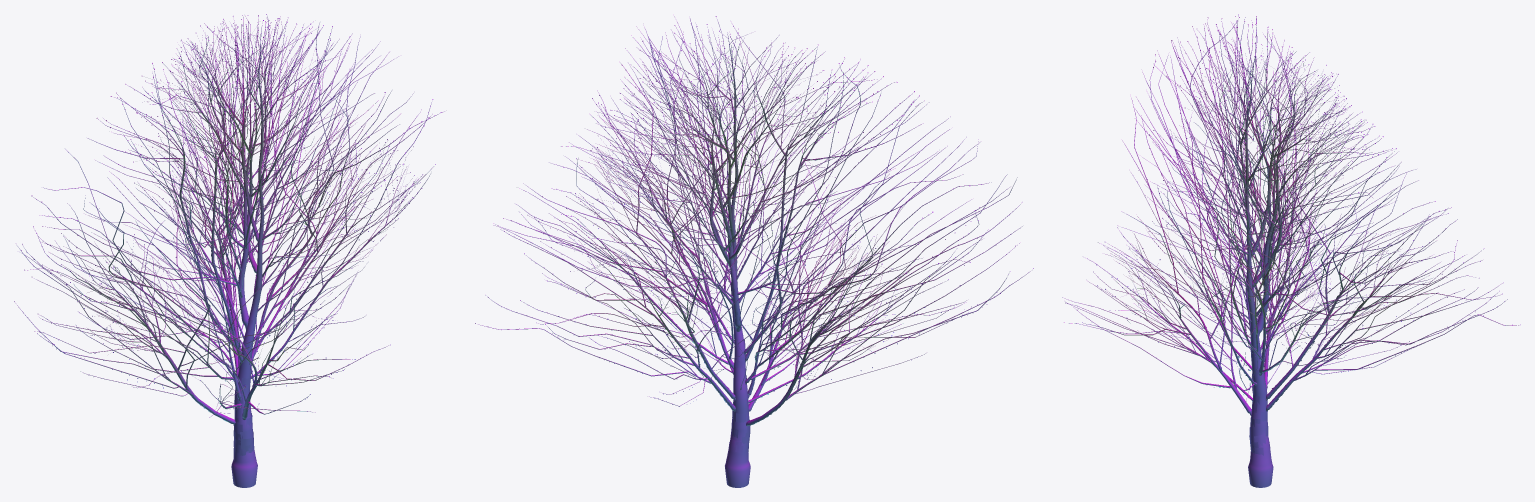
Rendered from tree_birch_s1_a60.fbx.
3 views of the same model, side by side, from view 1: azimuth 30°, elevation 25°; view 2: azimuth 150°, elevation 25°; view 3: azimuth 270°, elevation 25° (orthographic). The views are drawn at different scales.
Parts seen in each view (by area): view 1: tree_birch_s1_a60_branches, tree_birch_s1_a60_leaves, tree_birch_s1_a60_marks; view 2: tree_birch_s1_a60_branches, tree_birch_s1_a60_leaves, tree_birch_s1_a60_marks; view 3: tree_birch_s1_a60_branches, tree_birch_s1_a60_leaves, tree_birch_s1_a60_marks.
Boxes of the visible parts, x1,y1,x2,y2 form: tree_birch_s1_a60_branches: (17, 16, 444, 487); tree_birch_s1_a60_leaves: (14, 14, 441, 413); tree_birch_s1_a60_marks: (126, 83, 362, 455); tree_birch_s1_a60_branches: (478, 16, 1030, 487); tree_birch_s1_a60_leaves: (475, 16, 1033, 406); tree_birch_s1_a60_marks: (630, 94, 844, 452); tree_birch_s1_a60_branches: (1064, 14, 1518, 487); tree_birch_s1_a60_leaves: (1062, 16, 1520, 385); tree_birch_s1_a60_marks: (1175, 102, 1365, 455).
Size of the model in its own units: 15.41 by 16.06 by 15.24.
